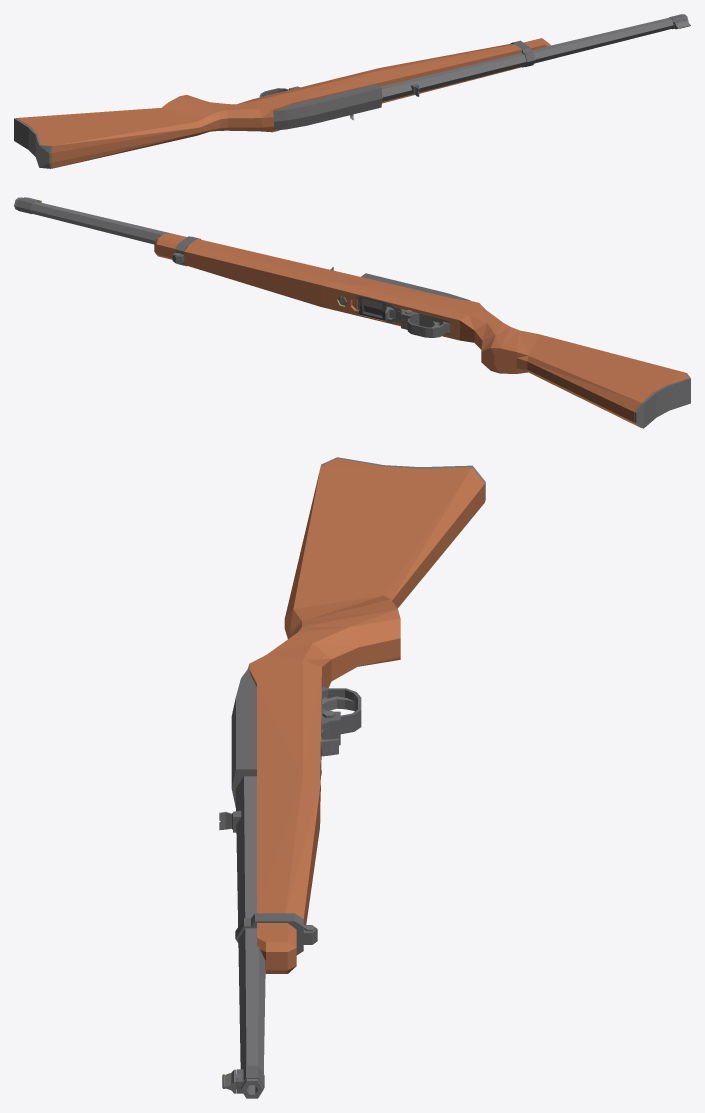
File: carabine.glb
3 renders of one model, top to bottom at view 1: azimuth 30°, elevation 25°; view 2: azimuth 150°, elevation 25°; view 3: azimuth 270°, elevation 25°, orthographic. The views are drawn at different scales.
Parts seen in each view (by area): view 1: Carabine; view 2: Carabine; view 3: Carabine.
Part boxes in pixels (x1=…): Carabine: x1=14, y1=14, x2=690, y2=168; Carabine: x1=14, y1=197, x2=690, y2=428; Carabine: x1=219, y1=457, x2=485, y2=1098.
Bounding box in the file's own units: 1.98 × 0.0896 × 0.3658.
